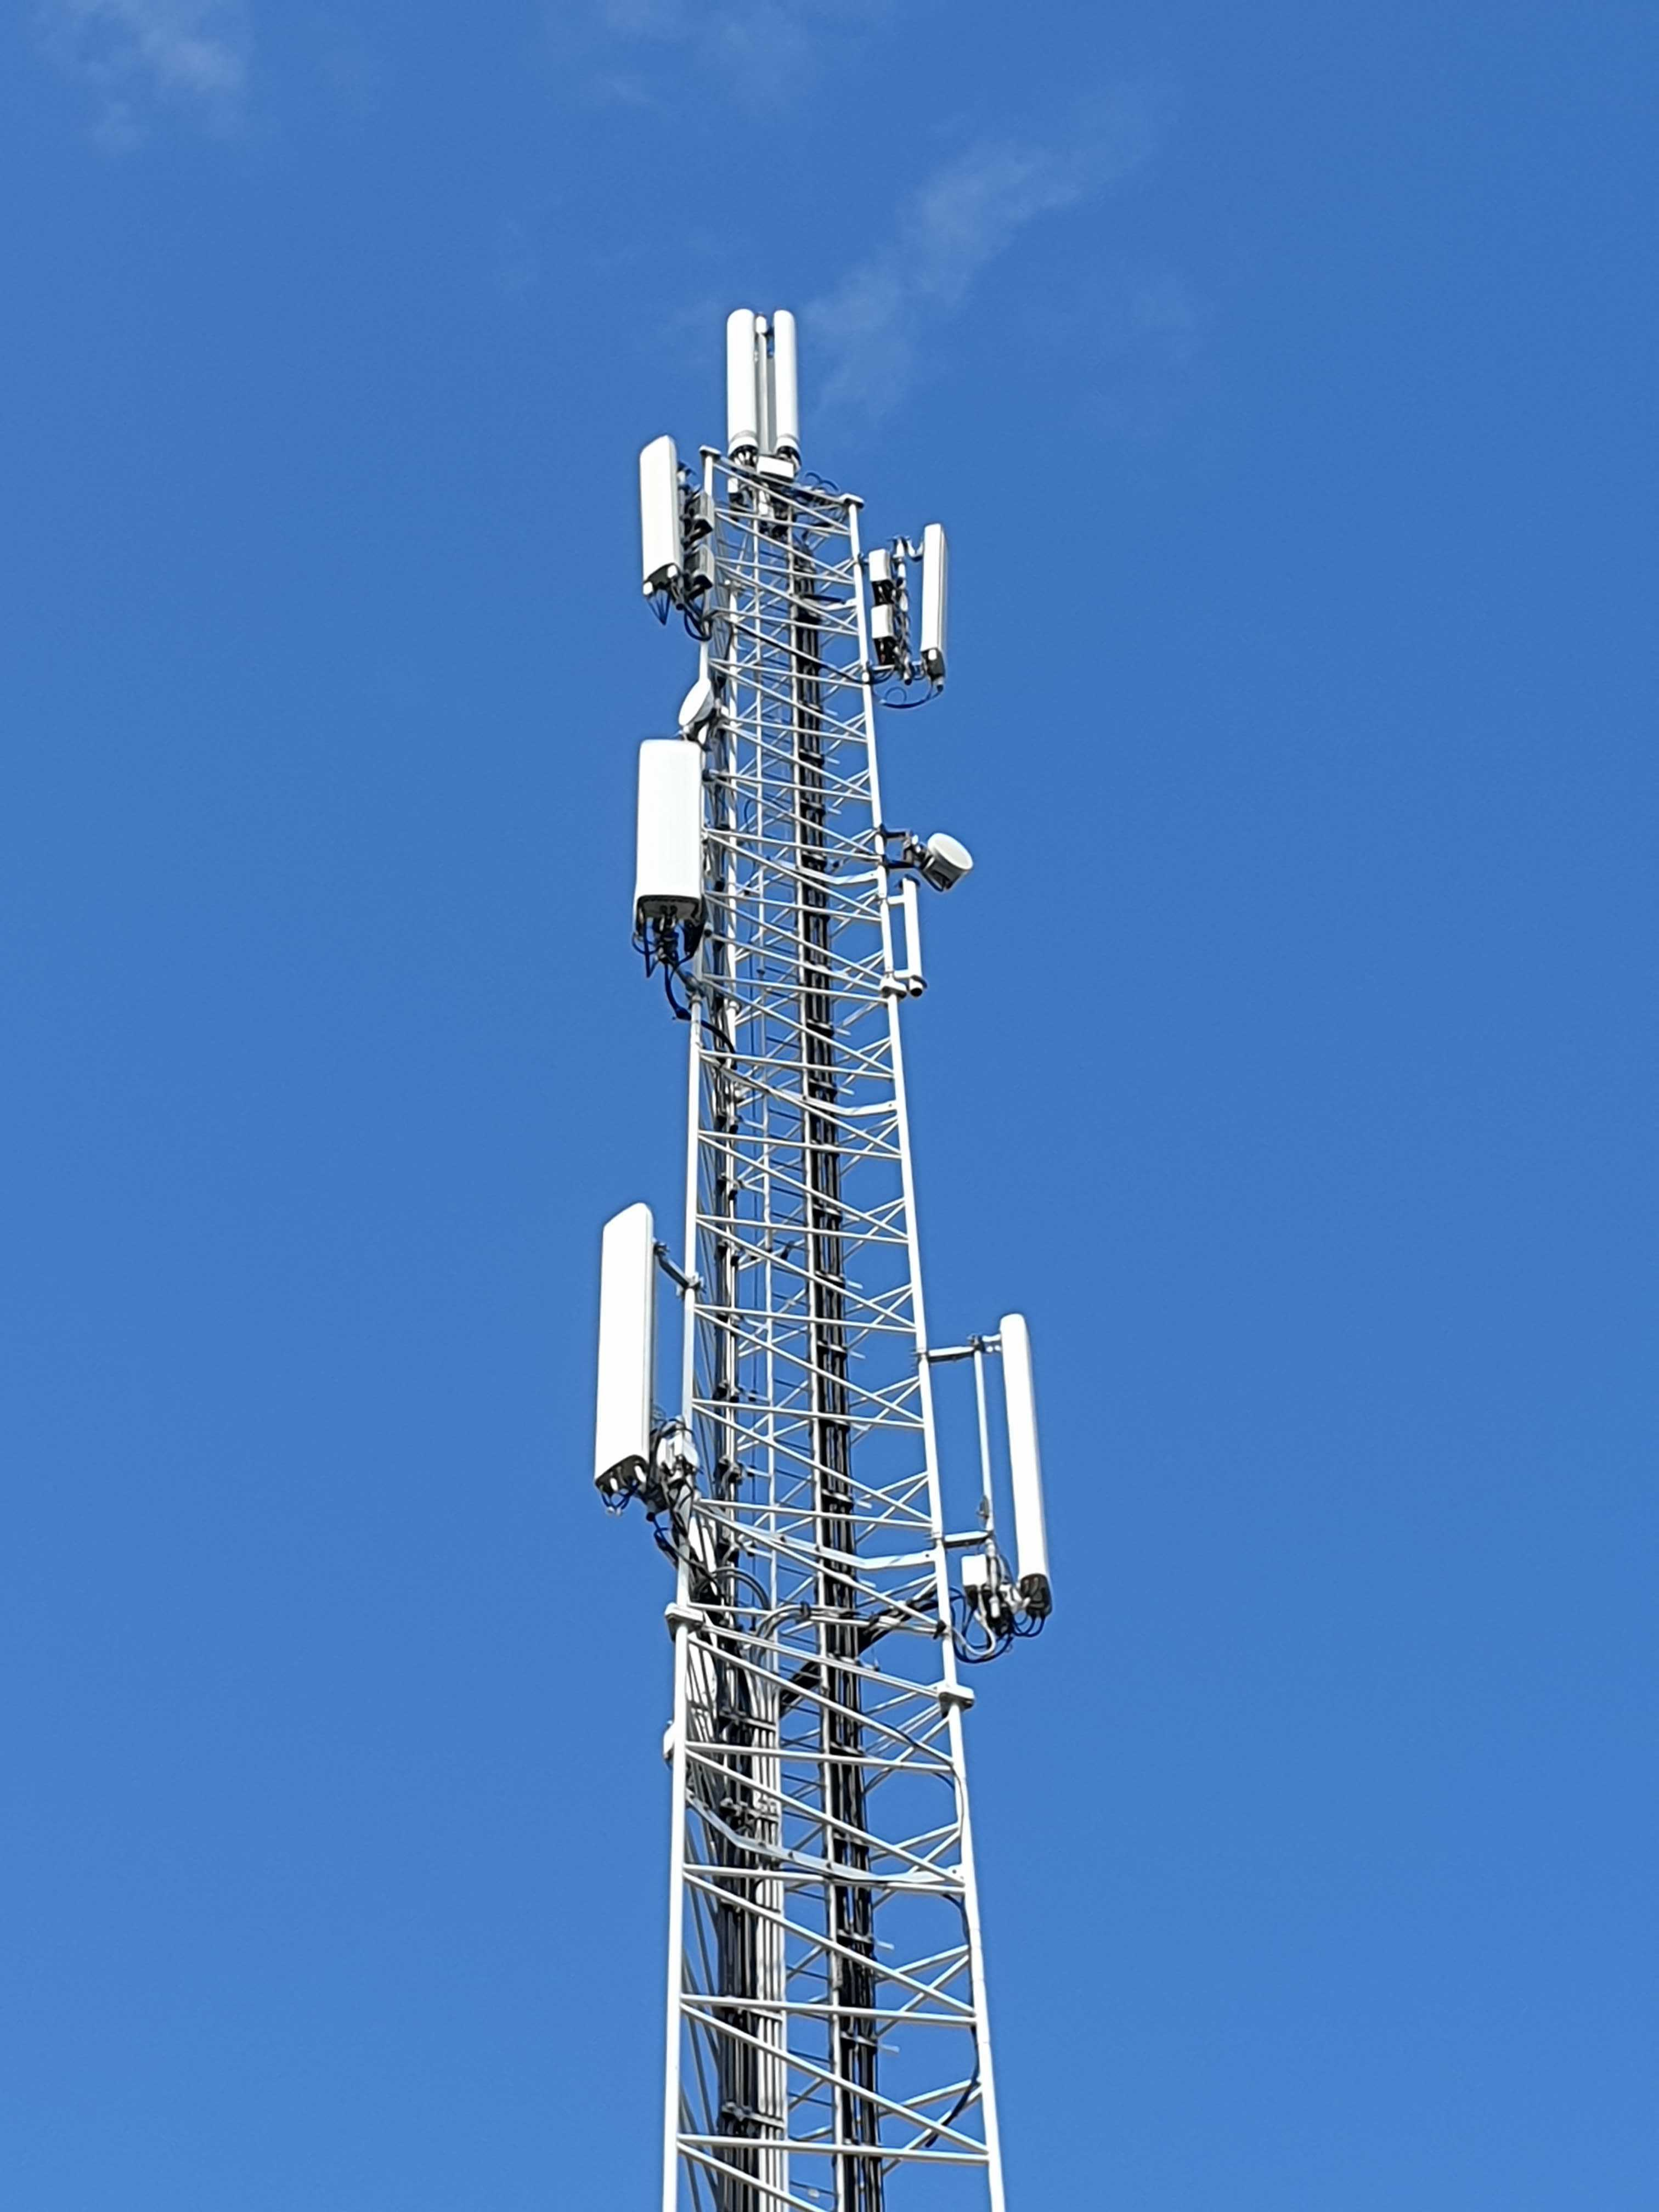a: (1004, 1313, 1054, 1583), (592, 1212, 643, 1475), (631, 726, 701, 902), (636, 439, 681, 578), (725, 312, 756, 456), (922, 529, 950, 662), (777, 310, 800, 442)
b: (924, 824, 969, 888)
